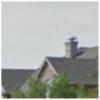chimneys: (64, 34, 80, 62)
